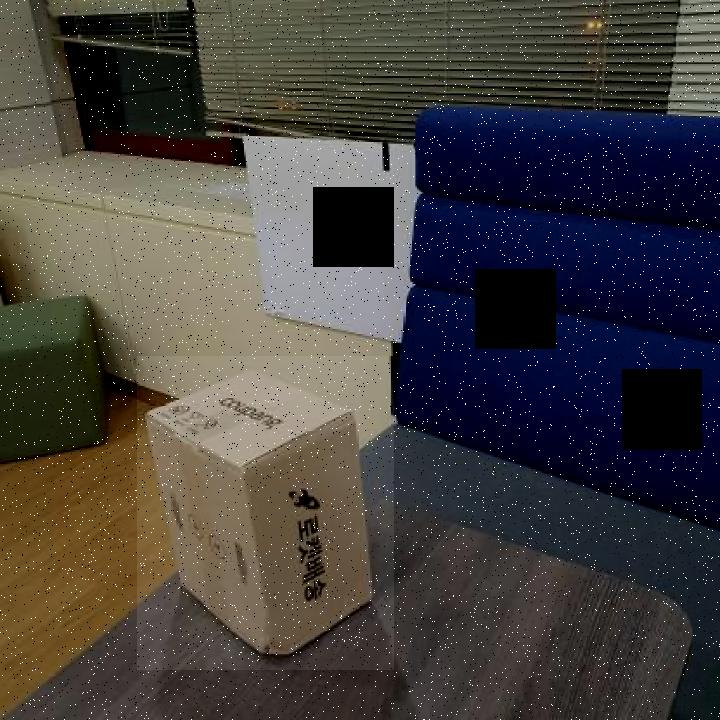box: (138, 356, 396, 670)
